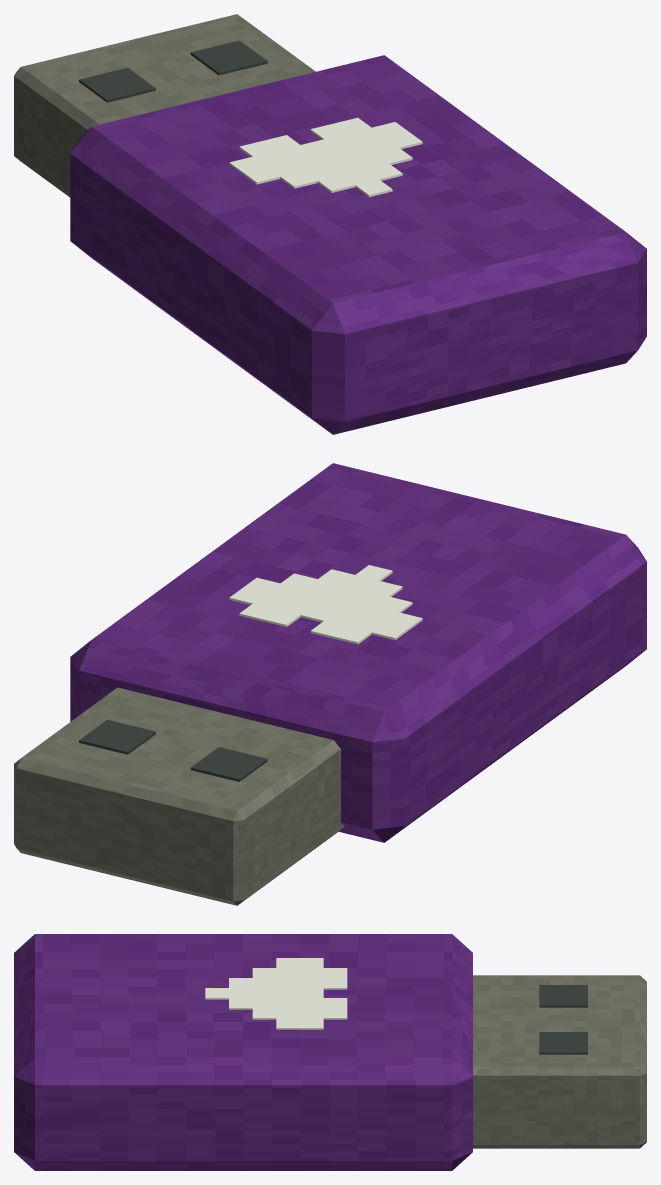
The model's file is retro_pendrive_lilas_v4.glb.
3 views of the same model, one above another, from view 1: azimuth 30°, elevation 25°; view 2: azimuth 150°, elevation 25°; view 3: azimuth 270°, elevation 25° (orthographic). The views are drawn at different scales.
Parts seen in each view (by area): view 1: Corpo lilas, Conector.002, Furo USB.005, Furo USB.004; view 2: Corpo lilas, Conector.002, Furo USB.004, Furo USB.005; view 3: Corpo lilas, Conector.002, Furo USB.004, Furo USB.005.
Part boxes in pixels (x1,y1,x2,y2): Corpo lilas: (70,55,646,434); Conector.002: (14,14,315,197); Furo USB.005: (190,40,267,75); Furo USB.004: (79,67,155,102); Corpo lilas: (70,463,646,842); Conector.002: (14,687,344,905); Furo USB.004: (190,747,267,781); Furo USB.005: (79,719,155,754); Corpo lilas: (14,934,472,1170); Conector.002: (473,975,646,1148); Furo USB.004: (539,985,587,1007); Furo USB.005: (539,1032,587,1054).
Bounding box in the file's own units: 0.048 × 0.0185 × 0.091.
4 materials, 2 textured.
